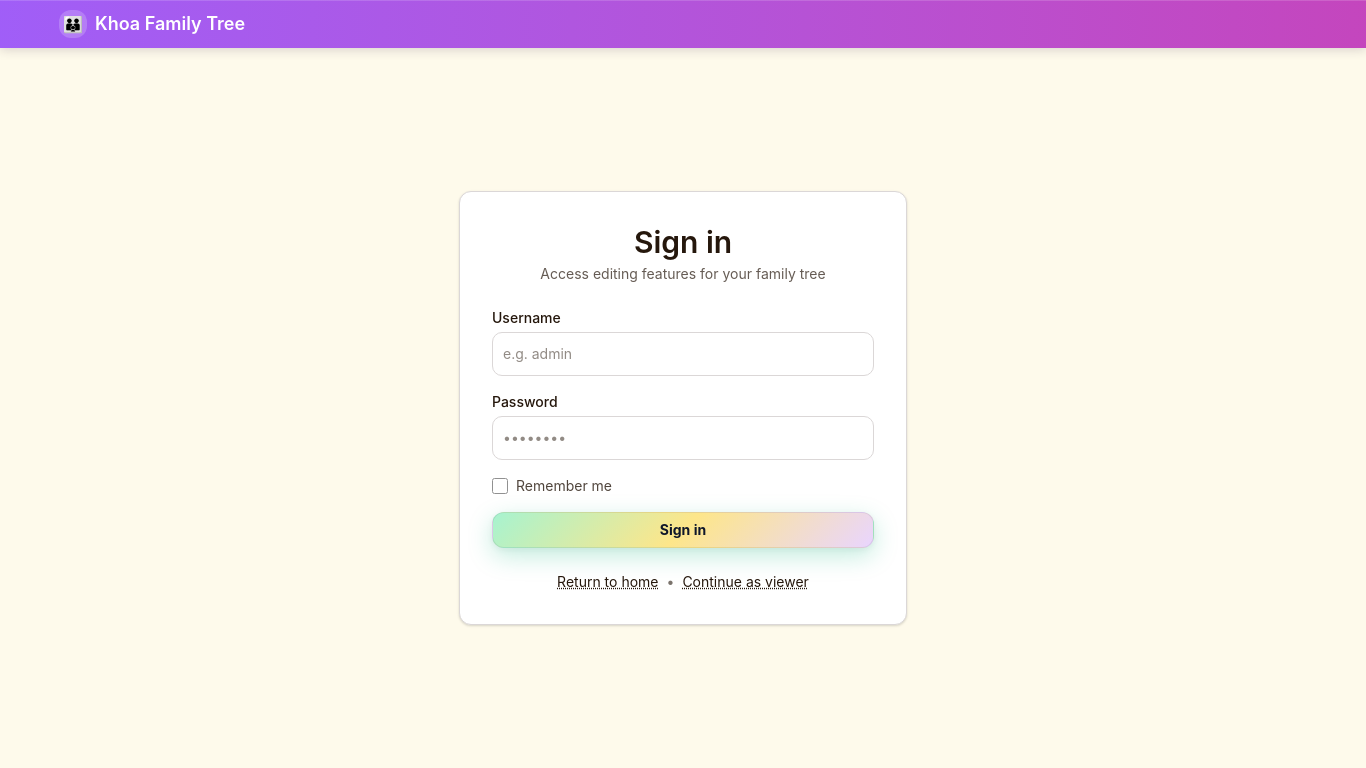
Test: LoginPageV2 › Error Handling › displays error for 401 status (unauthorized)
This screenshot has width=1366, height=768.
Step 1. Type "admin" into the field labelled "Username" → (683, 354), box left=492, top=332, right=874, bottom=376
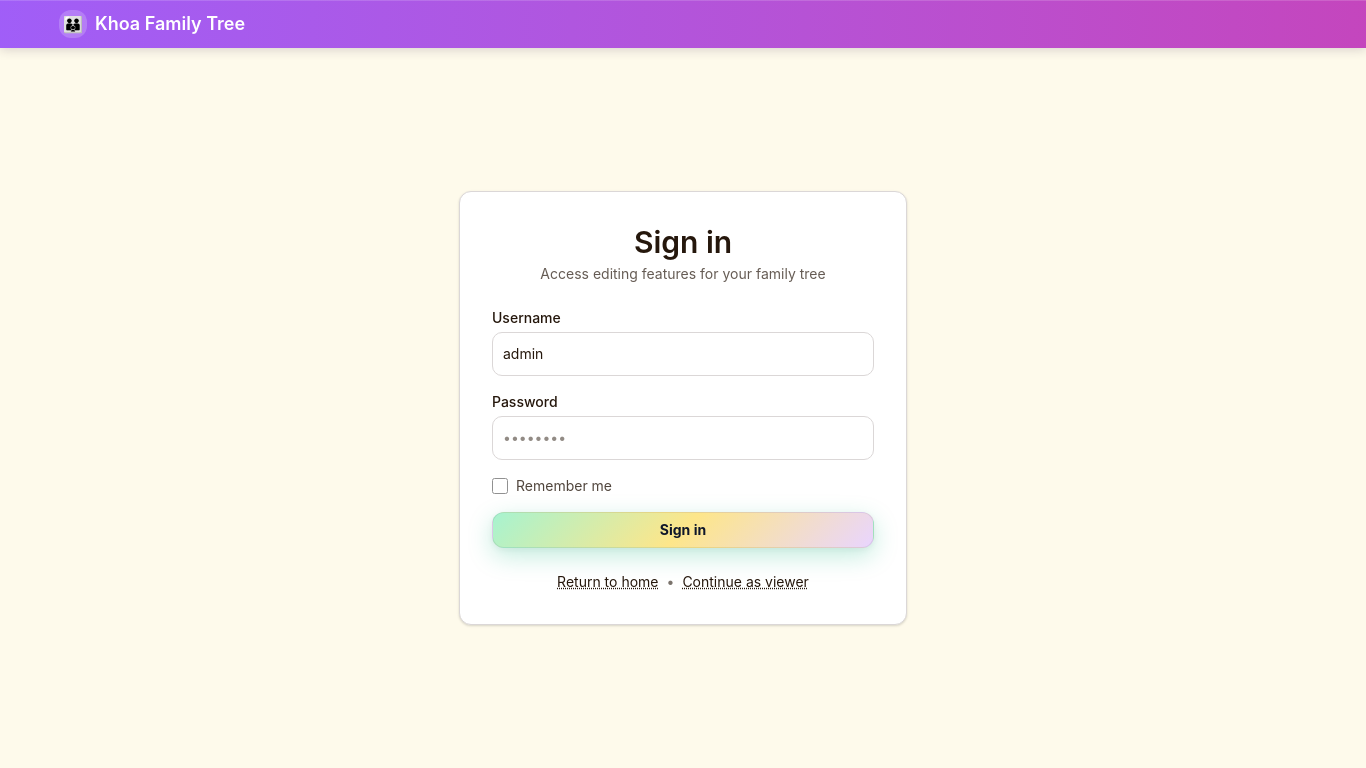
Step 2. Type "wrongpass" into the password field labelled "Password" → (683, 438), box left=492, top=416, right=874, bottom=460
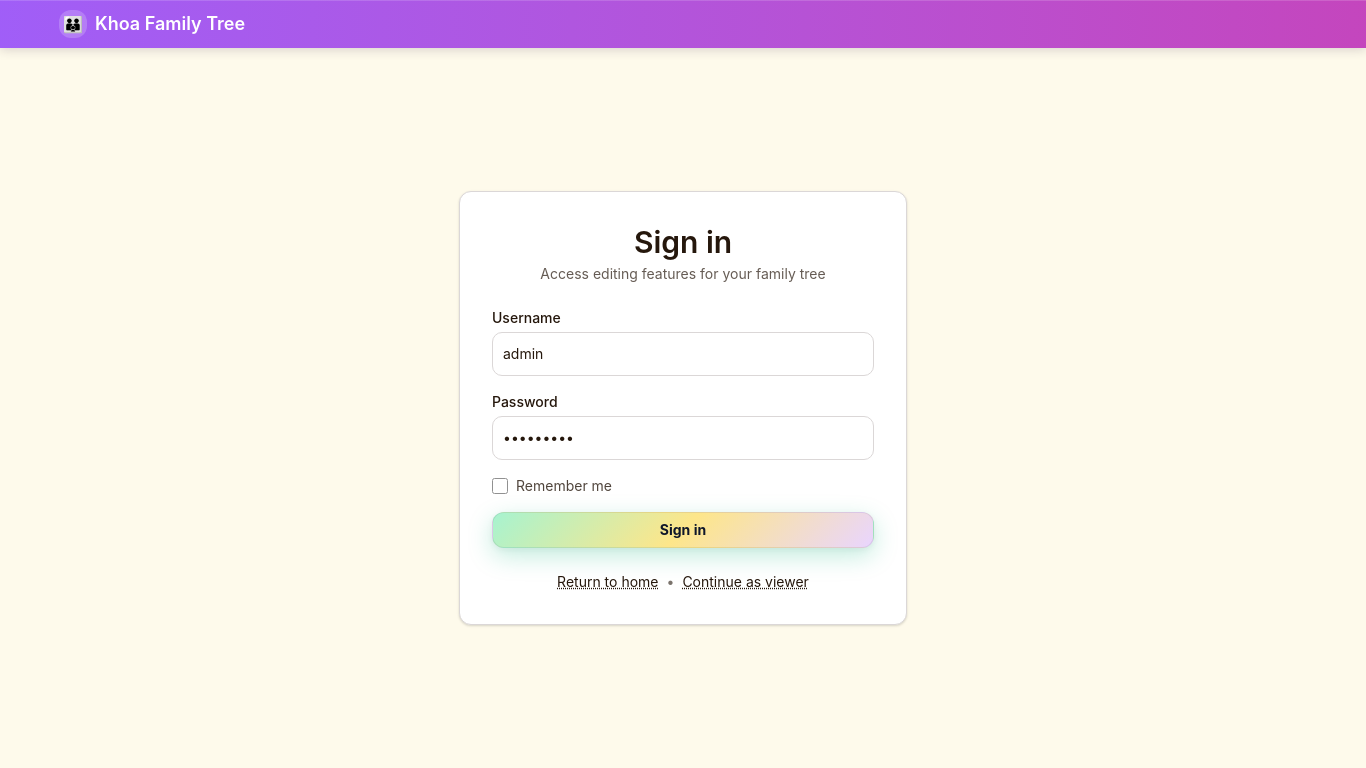
Step 3. Click the button "Sign in" → click(683, 530), box left=492, top=512, right=874, bottom=548
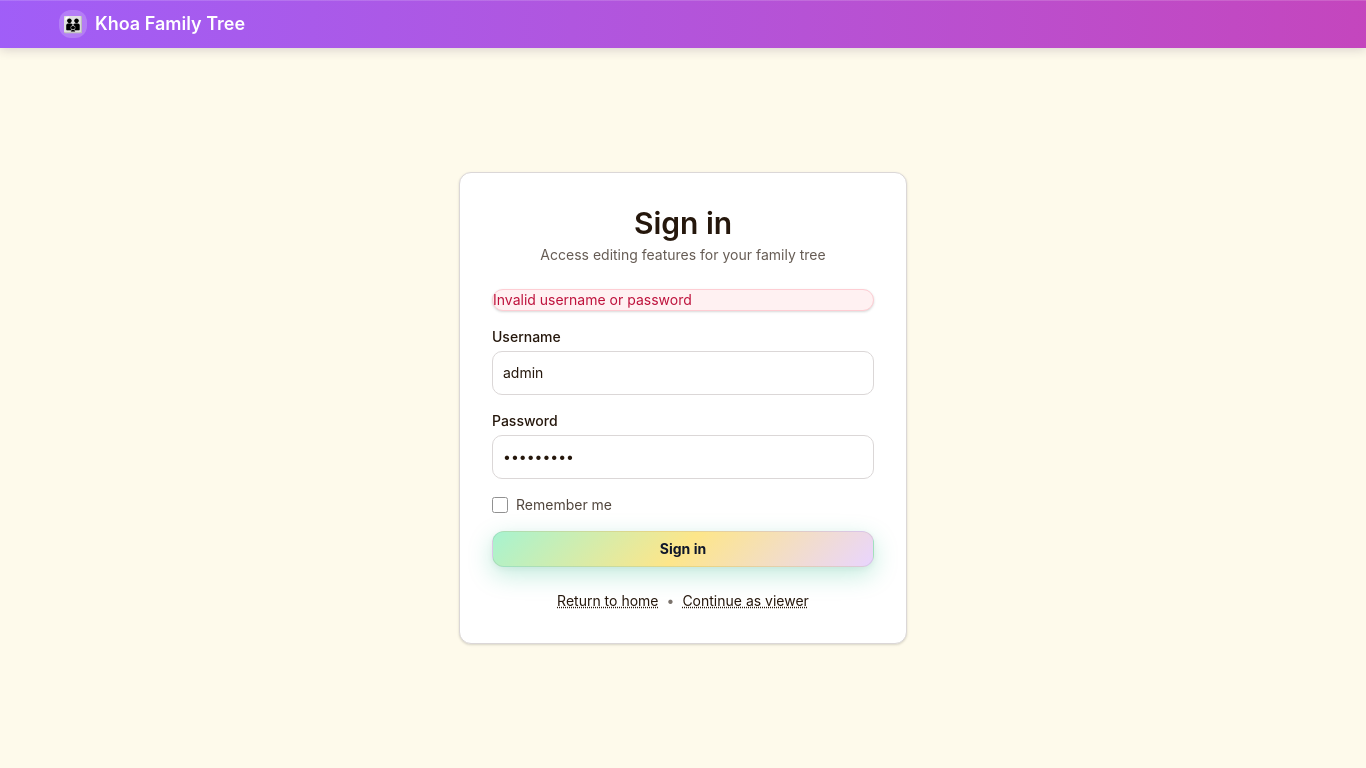
Check: the text "Invalid username or password" is shown, box left=492, top=289, right=874, bottom=311
